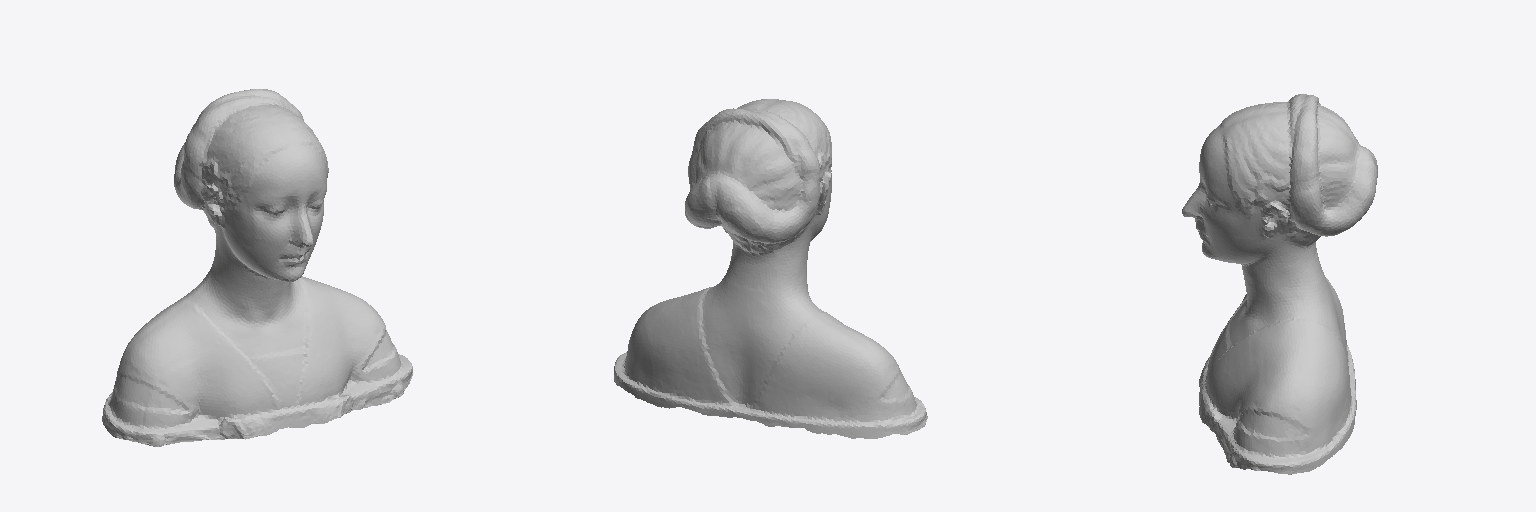
File: Laurana.obj
3 views of the same model, side by side, from view 1: azimuth 30°, elevation 25°; view 2: azimuth 150°, elevation 25°; view 3: azimuth 270°, elevation 25° (orthographic).
Size of the model in its own units: 453 by 447 by 259.